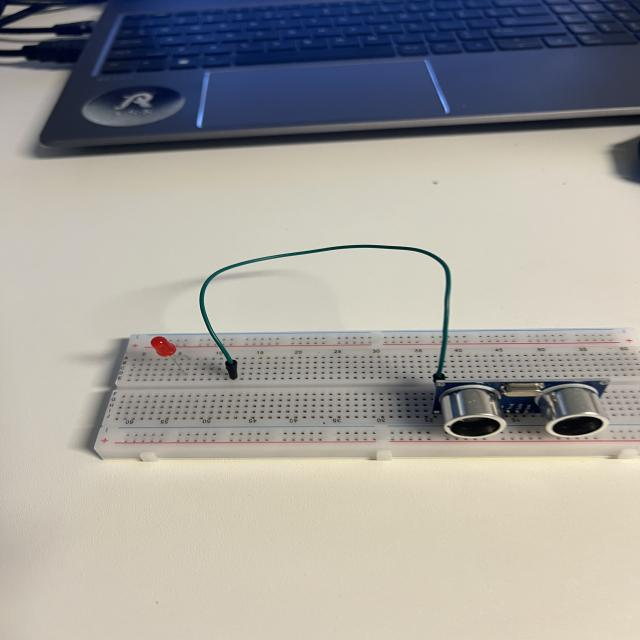BreadBoard: (89, 327, 637, 456)
REDLed: (152, 332, 187, 367)
UltrasoneSensor: (430, 378, 619, 445)
